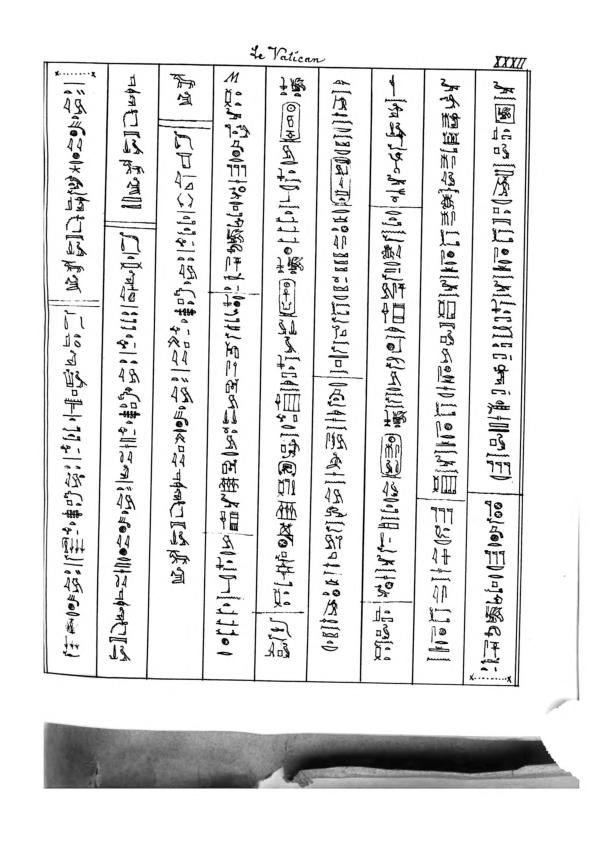circle: (376, 431, 405, 480), (278, 101, 303, 144), (276, 276, 300, 320)
